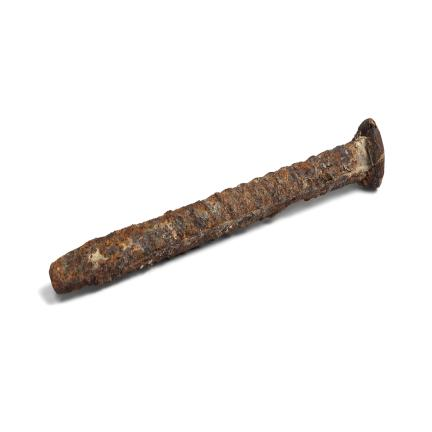karat: (49, 119, 384, 294)
